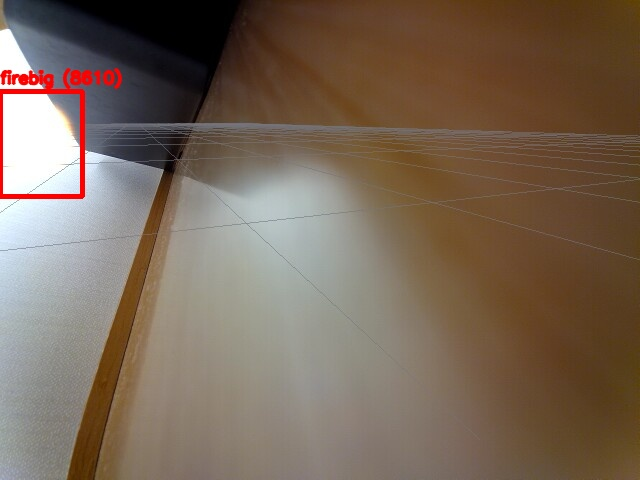firebig: (0, 91, 82, 196)
